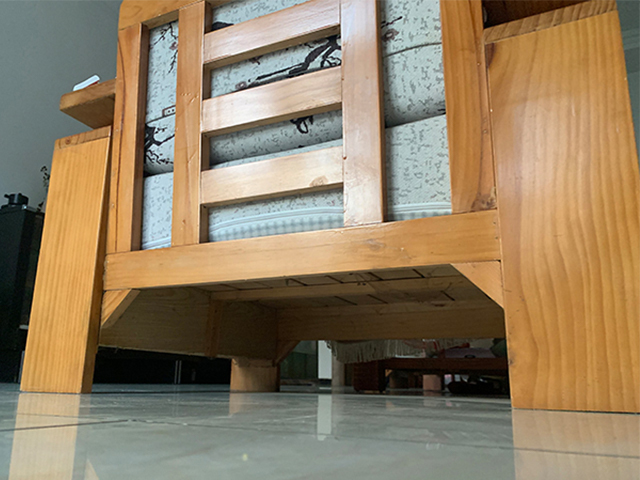sofa: (18, 1, 640, 415)
